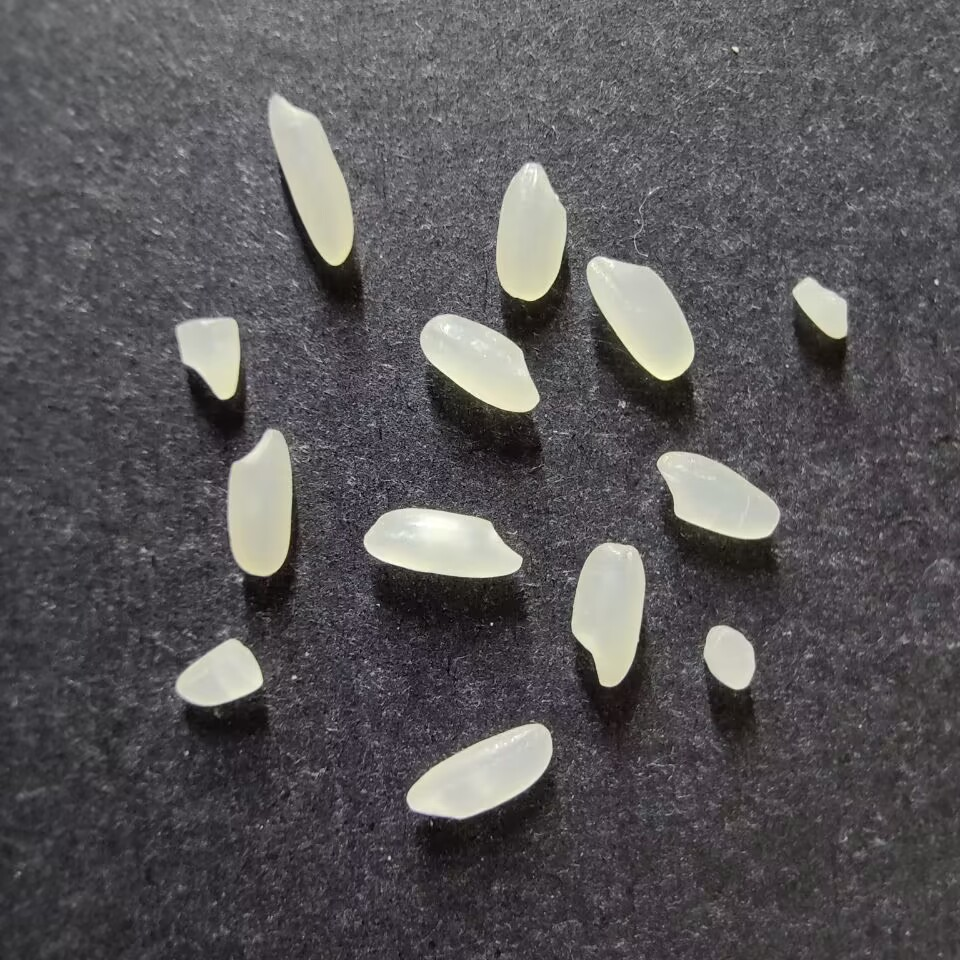broken: (175, 638, 262, 707), (175, 315, 239, 399), (702, 624, 756, 691), (791, 277, 849, 339)
rice: (266, 93, 354, 266), (405, 722, 553, 819), (585, 255, 695, 381), (418, 312, 540, 412), (363, 507, 523, 578), (655, 450, 781, 539), (570, 542, 646, 687), (494, 161, 567, 300), (226, 428, 292, 576)
